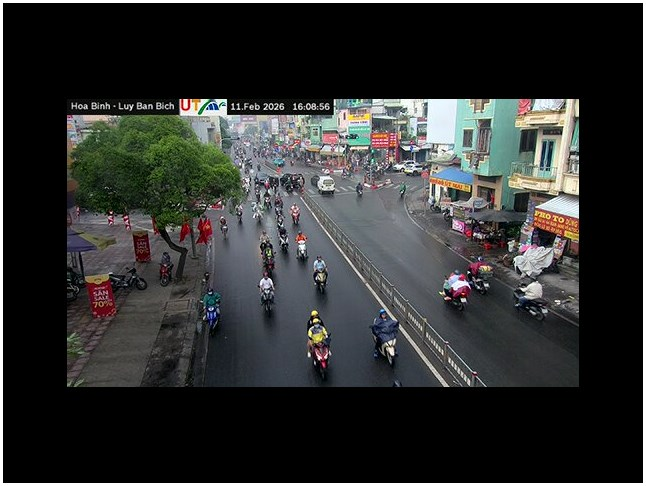car: (318, 176, 336, 195)
motorbike: (370, 308, 399, 367), (513, 283, 549, 322), (307, 336, 332, 381)
